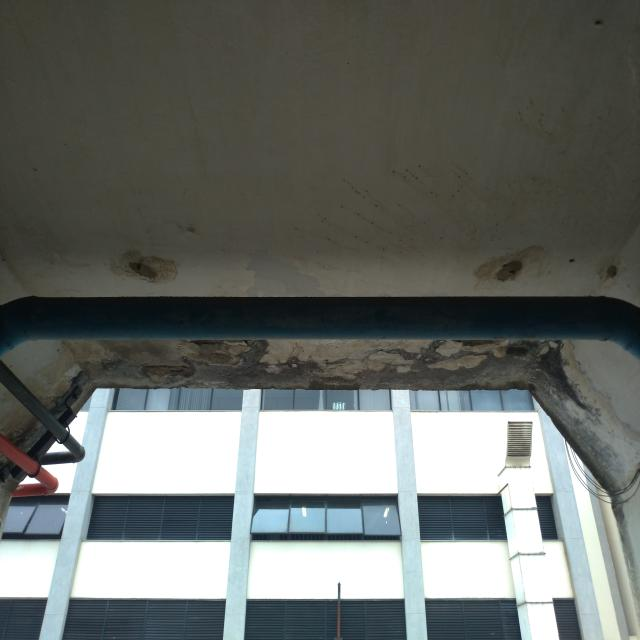gas: (0, 292, 637, 356)
